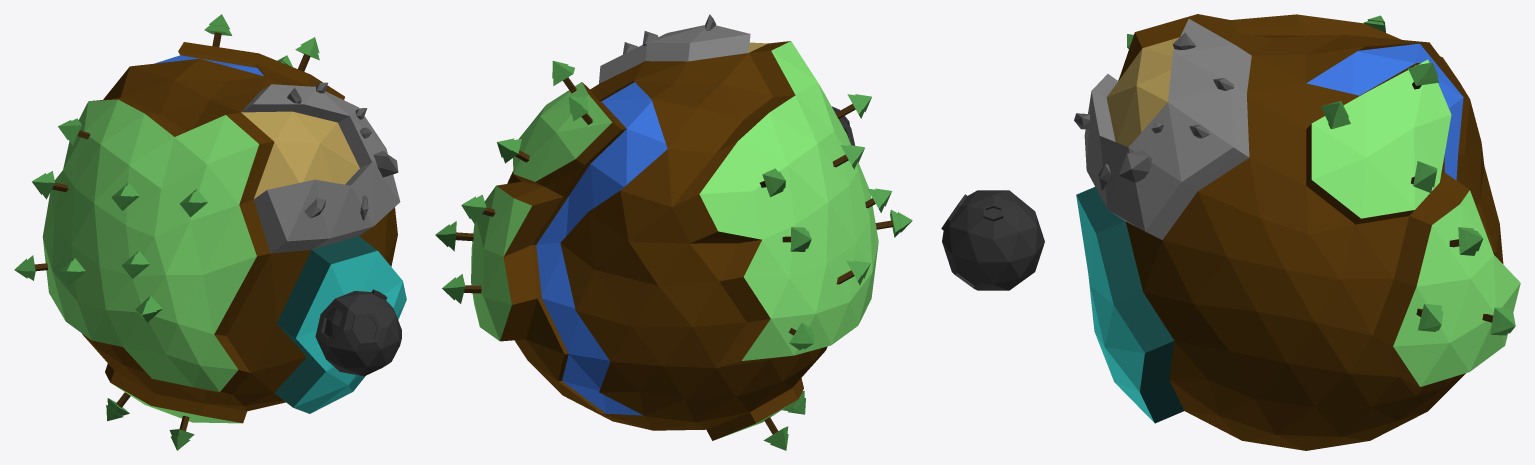
File: earth.fbx
3 views of the same model, side by side, from view 1: azimuth 30°, elevation 25°; view 2: azimuth 150°, elevation 25°; view 3: azimuth 270°, elevation 25° (orthographic). The views are drawn at different scales.
Parts seen in each view (by area): view 1: Cube.001; view 2: Cube.001; view 3: Cube.001.
Boxes of the visible parts, x1,y1,x2,y2 form: Cube.001: [14, 14, 406, 450]; Cube.001: [435, 14, 912, 450]; Cube.001: [941, 14, 1520, 450].
Bounding box in the file's own units: 1341 × 1289 × 1633.
